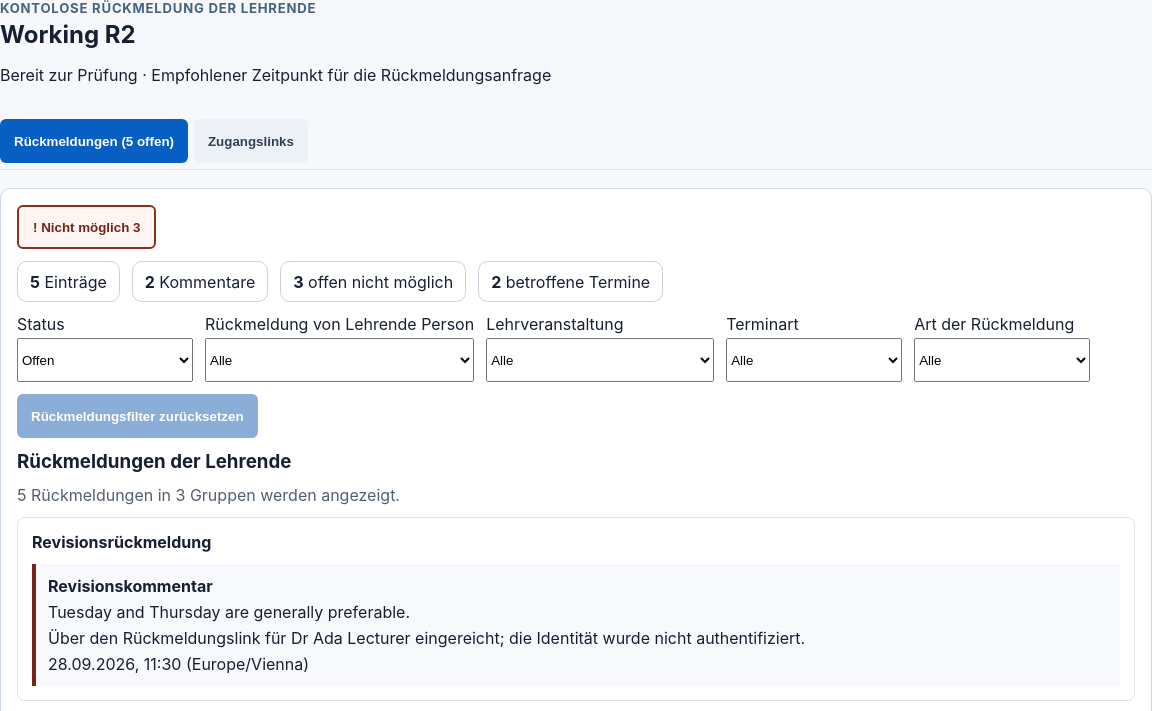
it: LecturerReviewManagement planner feedback filter › intersects the Not possible toggle with item filters and clears both scopes together
Select "COURSE-42 · Algorithms" in the dropdown labelled "Lehrveranstaltung" at (600, 360), box [486,338,714,382]
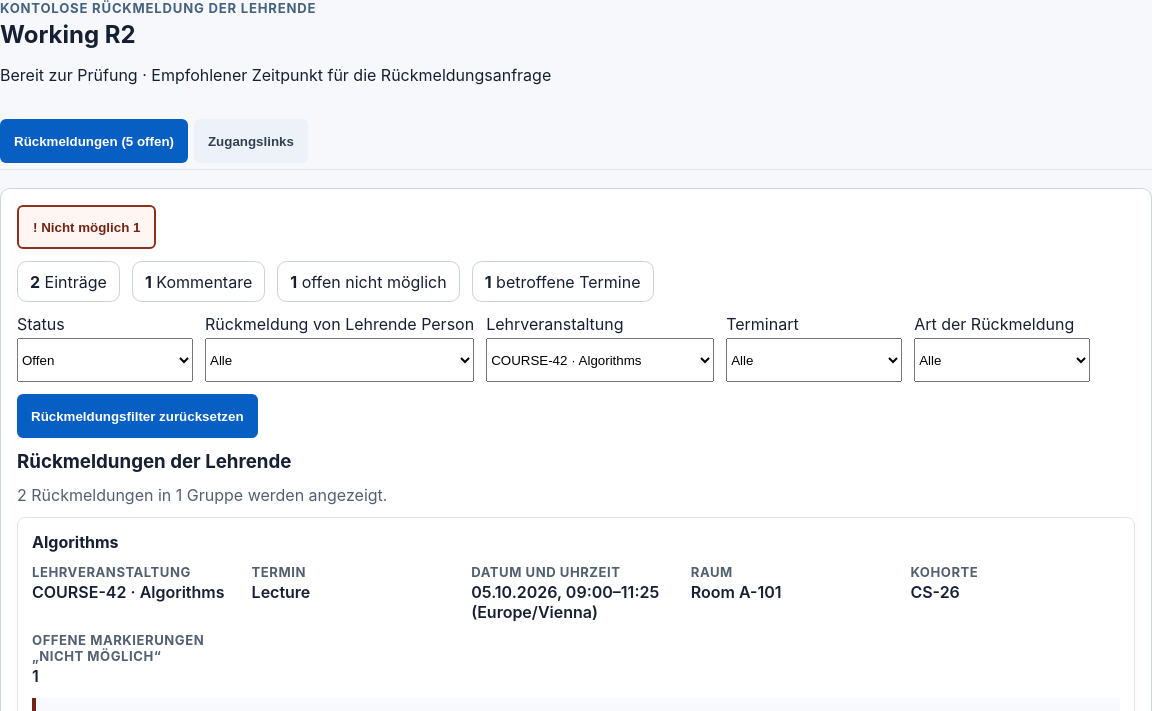
Expected: the button "! Nicht möglich 1" is shown
Click the button "! Nicht möglich 1" at (87, 227), box [17,205,156,249]
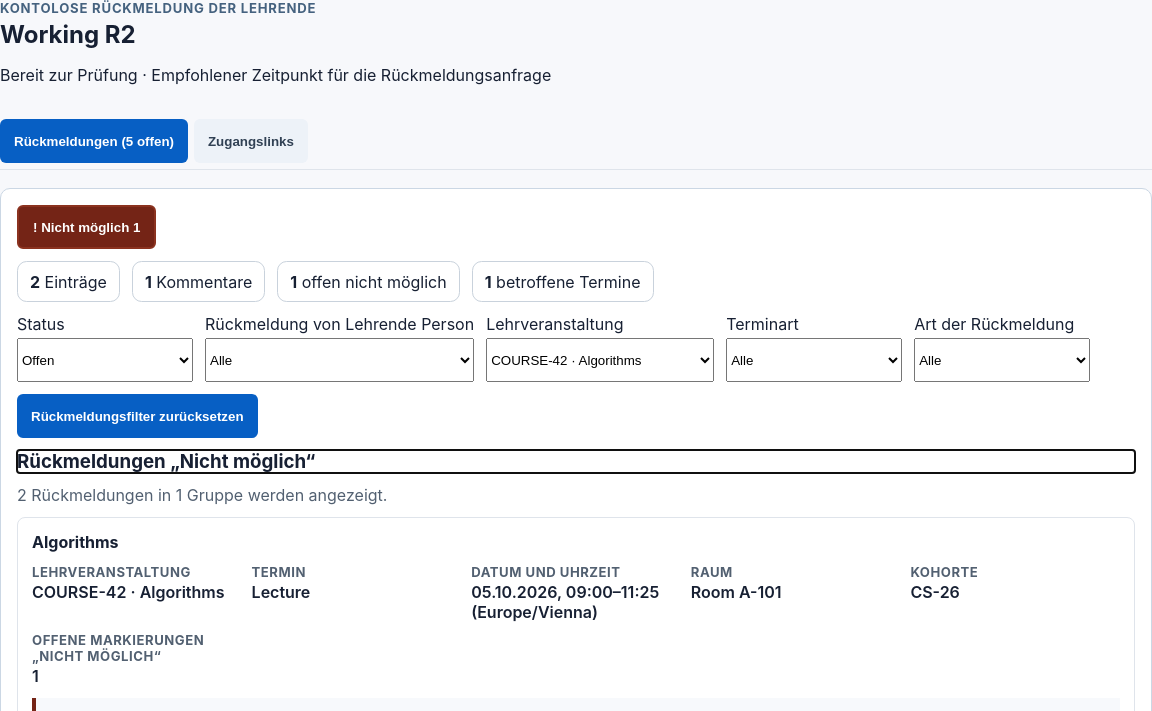
Expected: the element with class "coordination-counters" reads "2 Einträge 1 Kommentare 1 offen nicht möglich 1 betroffene Termine", [17,261,654,302]
Click the button "Rückmeldungsfilter zurücksetzen" at (137, 416), box [17,394,258,438]
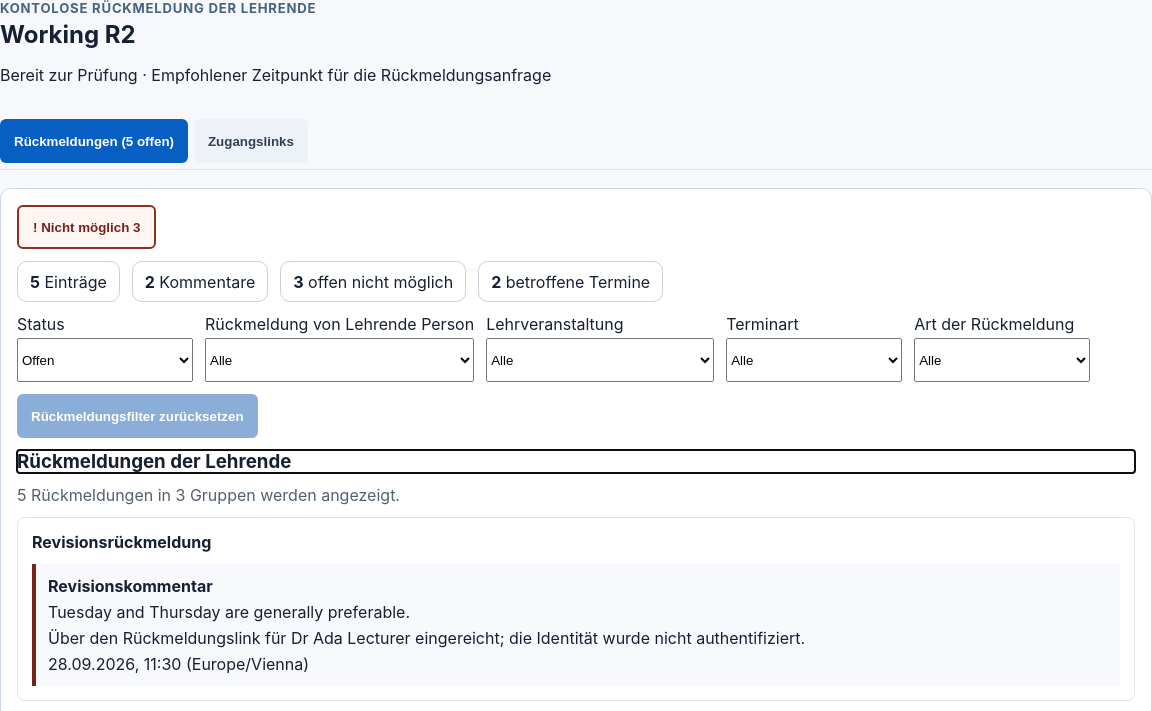
Expected: the element with class "coordination-counters" reads "5 Einträge 2 Kommentare 3 offen nicht möglich 2 betroffene Termine", [17,261,663,302]
